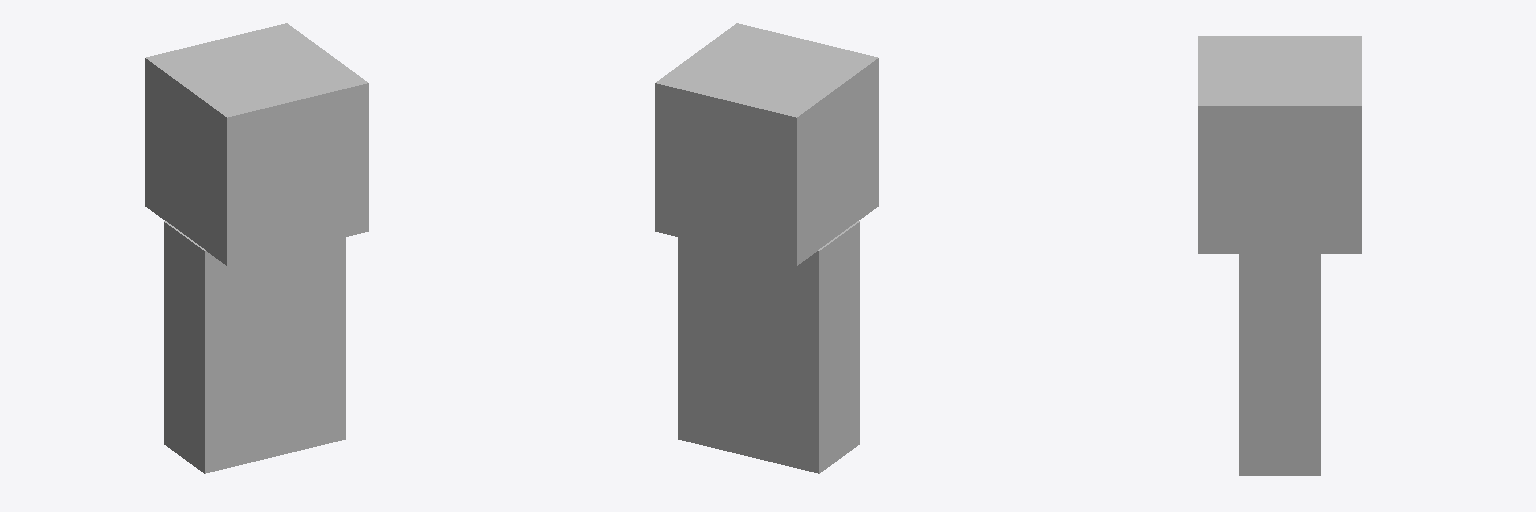
The model's file is Char.obj.
3 views of the same model, side by side, from view 1: azimuth 30°, elevation 25°; view 2: azimuth 150°, elevation 25°; view 3: azimuth 270°, elevation 25° (orthographic).
Visible parts, largest first — view 1: initialShadingGroup pCube1, initialShadingGroup pCube2; view 2: initialShadingGroup pCube1, initialShadingGroup pCube2; view 3: initialShadingGroup pCube1, initialShadingGroup pCube2.
Part boxes in pixels (left/top/right/bottom): initialShadingGroup pCube1: left=145, top=23, right=368, bottom=265; initialShadingGroup pCube2: left=164, top=221, right=345, bottom=473; initialShadingGroup pCube1: left=655, top=23, right=878, bottom=265; initialShadingGroup pCube2: left=678, top=221, right=859, bottom=473; initialShadingGroup pCube1: left=1198, top=36, right=1361, bottom=253; initialShadingGroup pCube2: left=1239, top=254, right=1320, bottom=475.
Bounding box in the file's own units: 8.11 × 19.97 × 8.